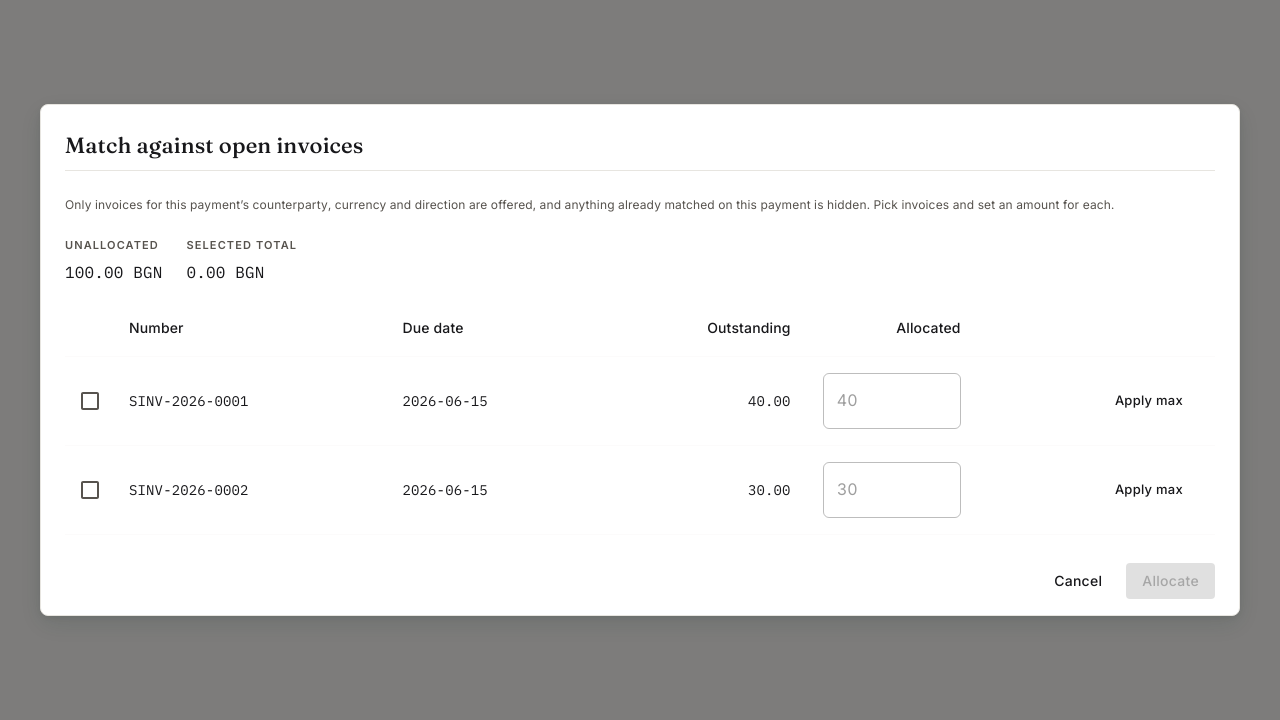
AllocatePaymentDialog (SDD-UI-FIN-002 §2.11) › Allocate_Failure_IsAllOrNothing_NoPartialOptimisticUpdate
Click the checkbox named "SINV-2026-0001": (90, 401) [78,389,102,413]
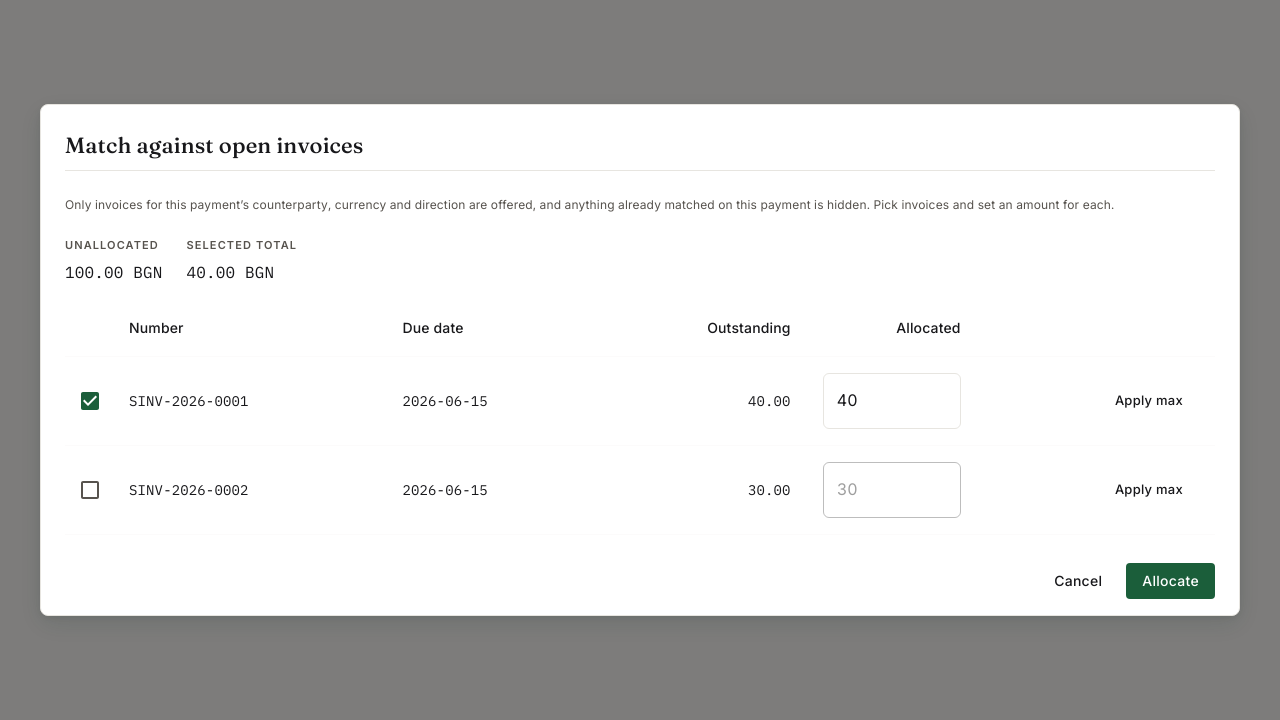
Click the checkbox named "SINV-2026-0002": (90, 490) [78,478,102,502]
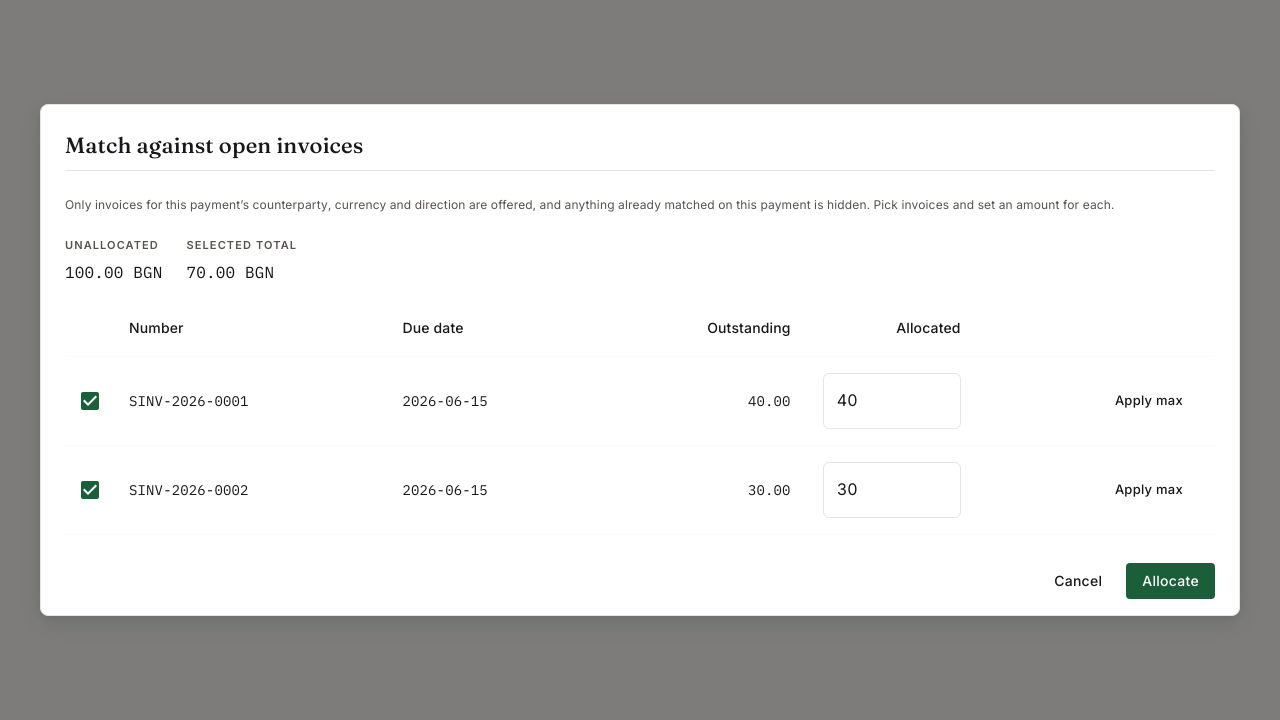
Click the button "Allocate": (1171, 581) [1126,563,1215,599]
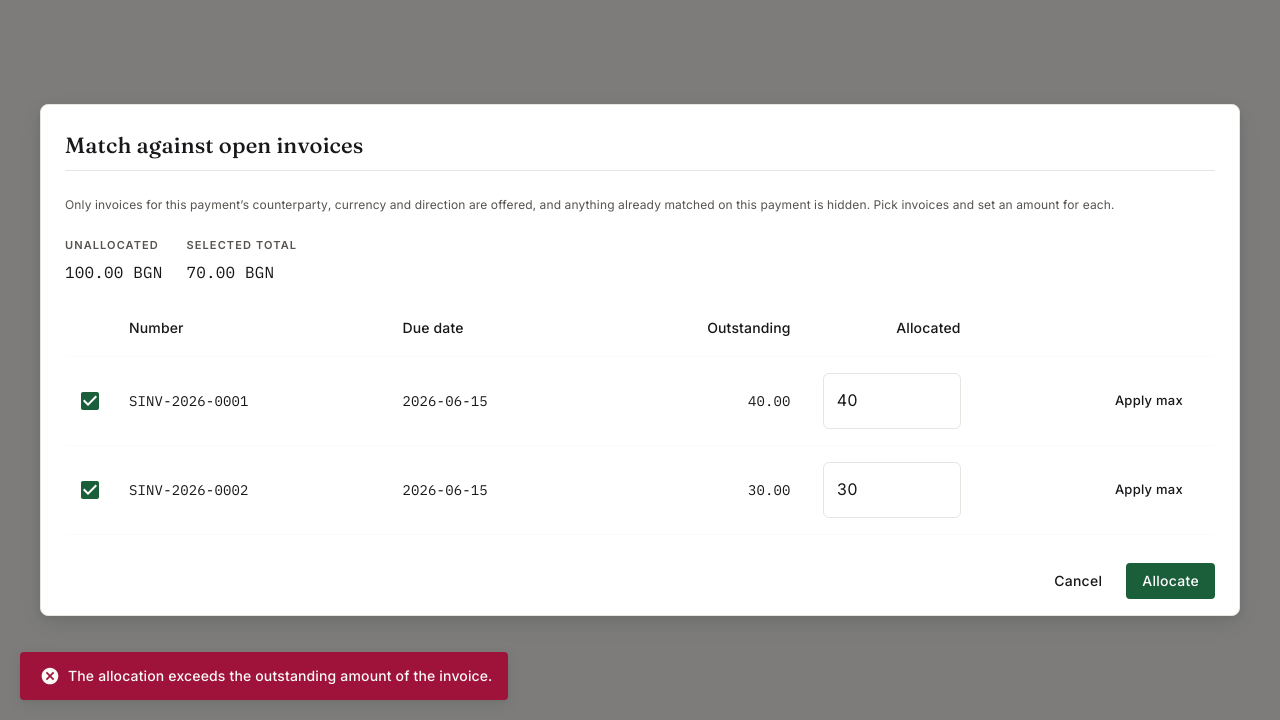
Expected: the checkbox named "SINV-2026-0001" is checked, [78,389,102,413]
Expected: the text "The allocation exceeds the outstanding amount of the invoice." is shown, [40,666,492,686]
